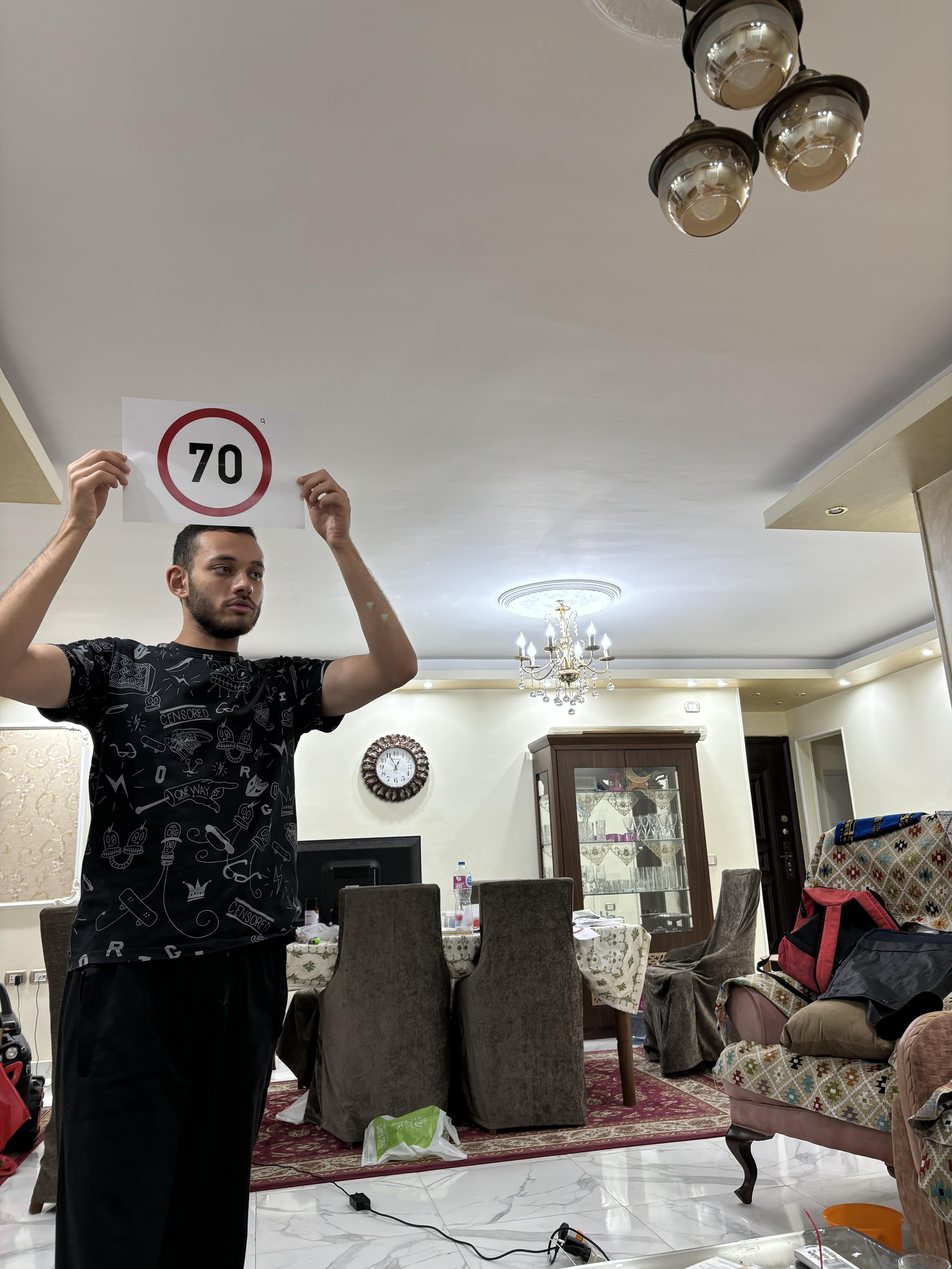70-Speed: (154, 401, 276, 520)
